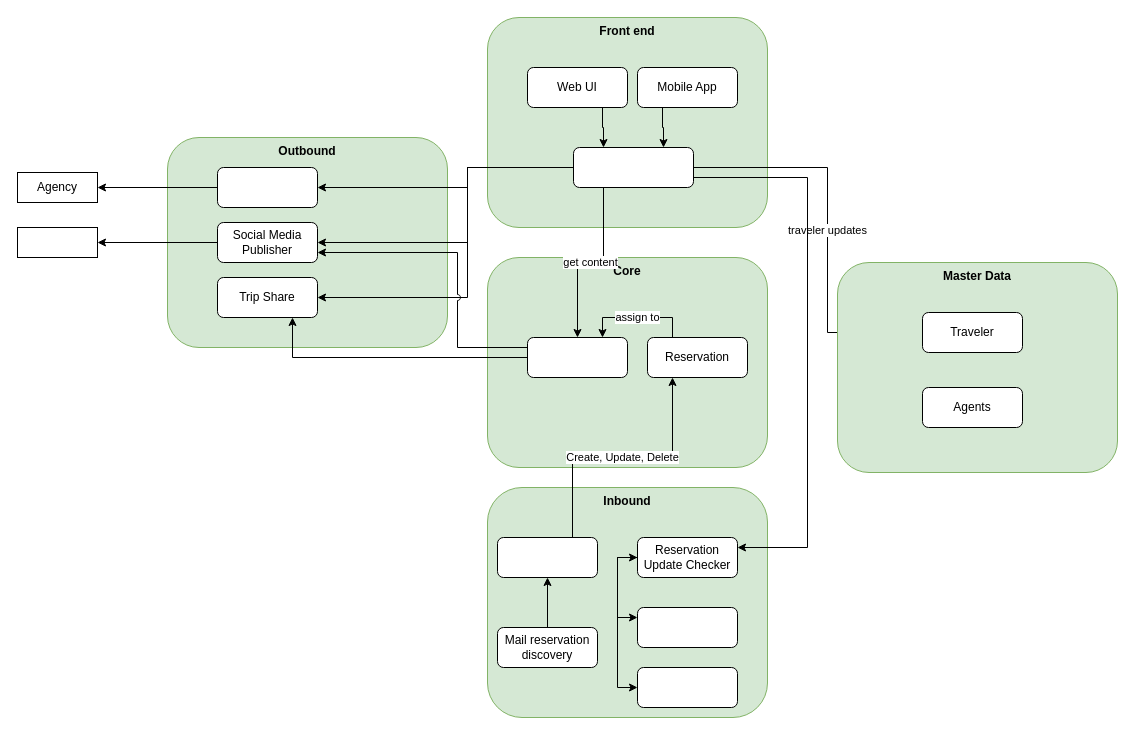
Image size: 1135x735. Some labels were removed from this diagram. The centre of each missing label's shape, as x and y in pixels:
"Agency Change Capture" goes at [687,687].
"API Management" goes at [633,167].
"Apollo Change Capture" goes at [687,627].
"Help redirector" goes at [267,187].
"Reservation Inbox" goes at [547,557].
"Social Media" goes at [57,242].
"Trip" goes at [577,357].
